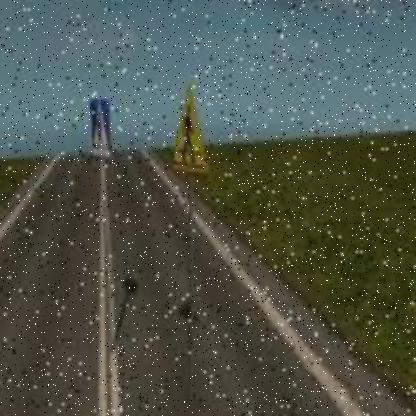Pedestrian Crossing: (89, 94, 112, 159)
